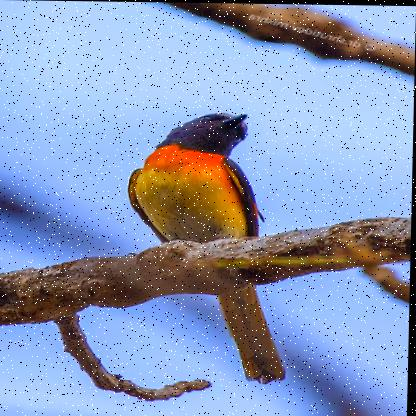Burung: (125, 111, 295, 383)
